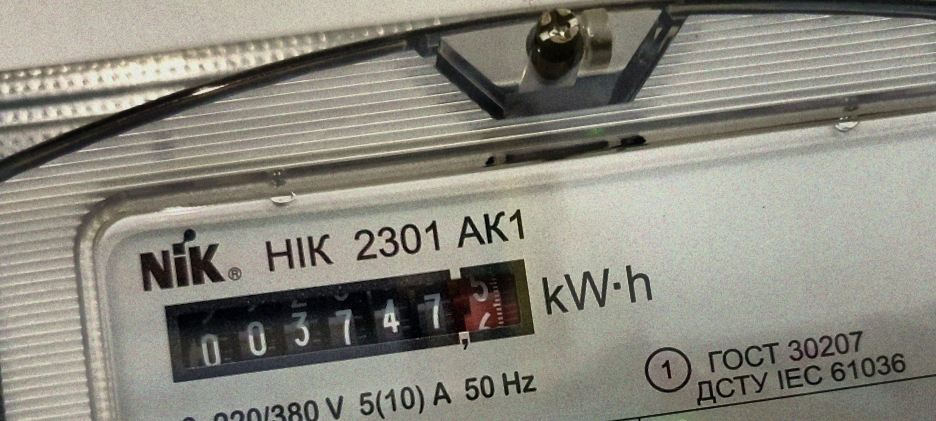0: (243, 316, 268, 357), (197, 329, 223, 367)
3: (288, 308, 312, 347)
4: (376, 294, 402, 336)
5: (467, 272, 491, 303)
6: (473, 307, 494, 331)
7: (419, 288, 447, 331), (332, 305, 357, 347)
screen: (151, 240, 551, 401)
